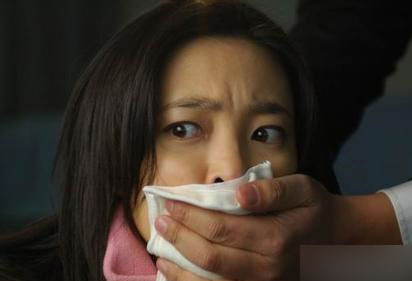face: (133, 37, 309, 256)
